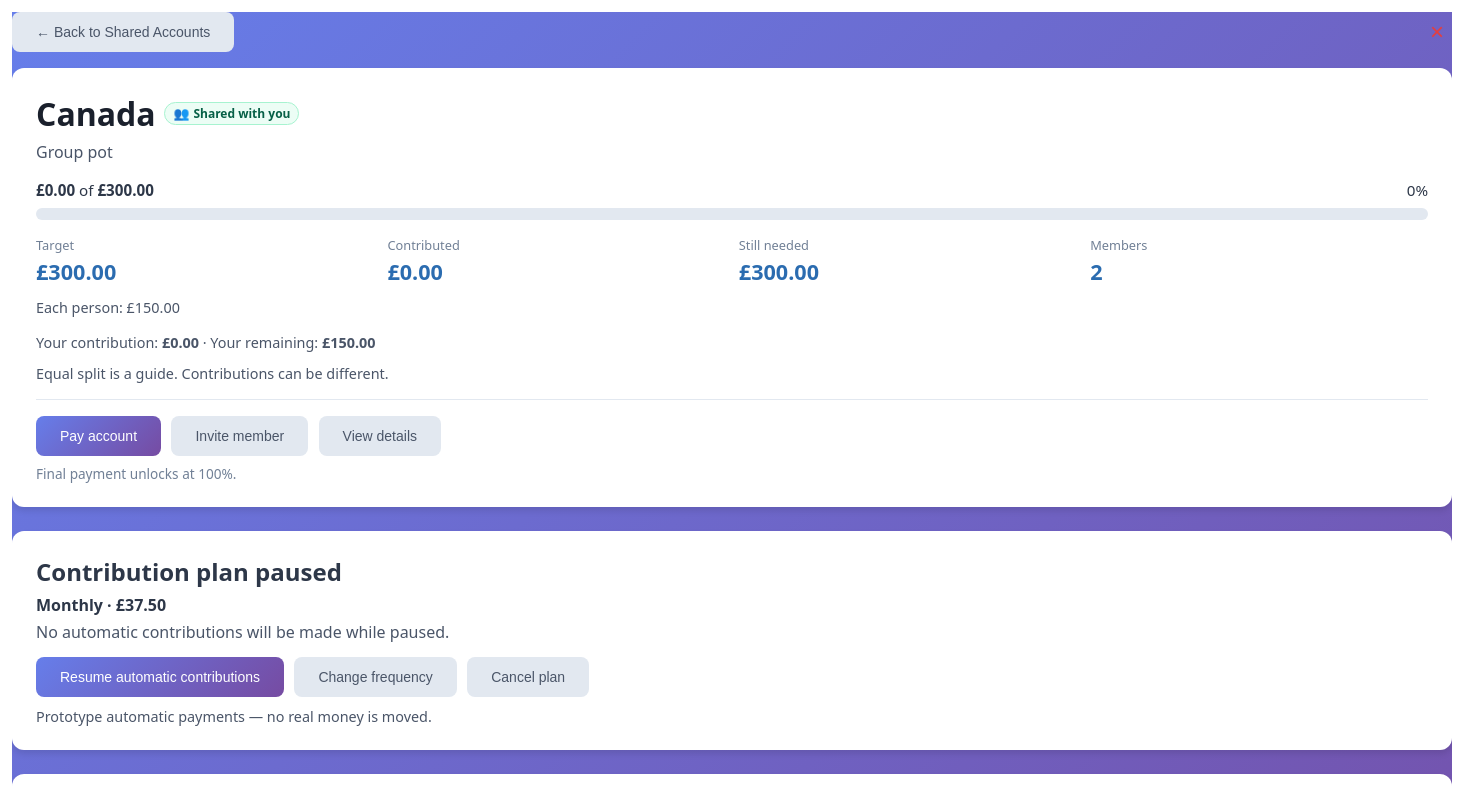
Test: SharedAccountDetail contribution plan management › resumes a paused plan back to active
The width and height of the screenshot is (1464, 799).
Click the button "Resume automatic contributions" at point(160, 677), box [36,657,284,697]
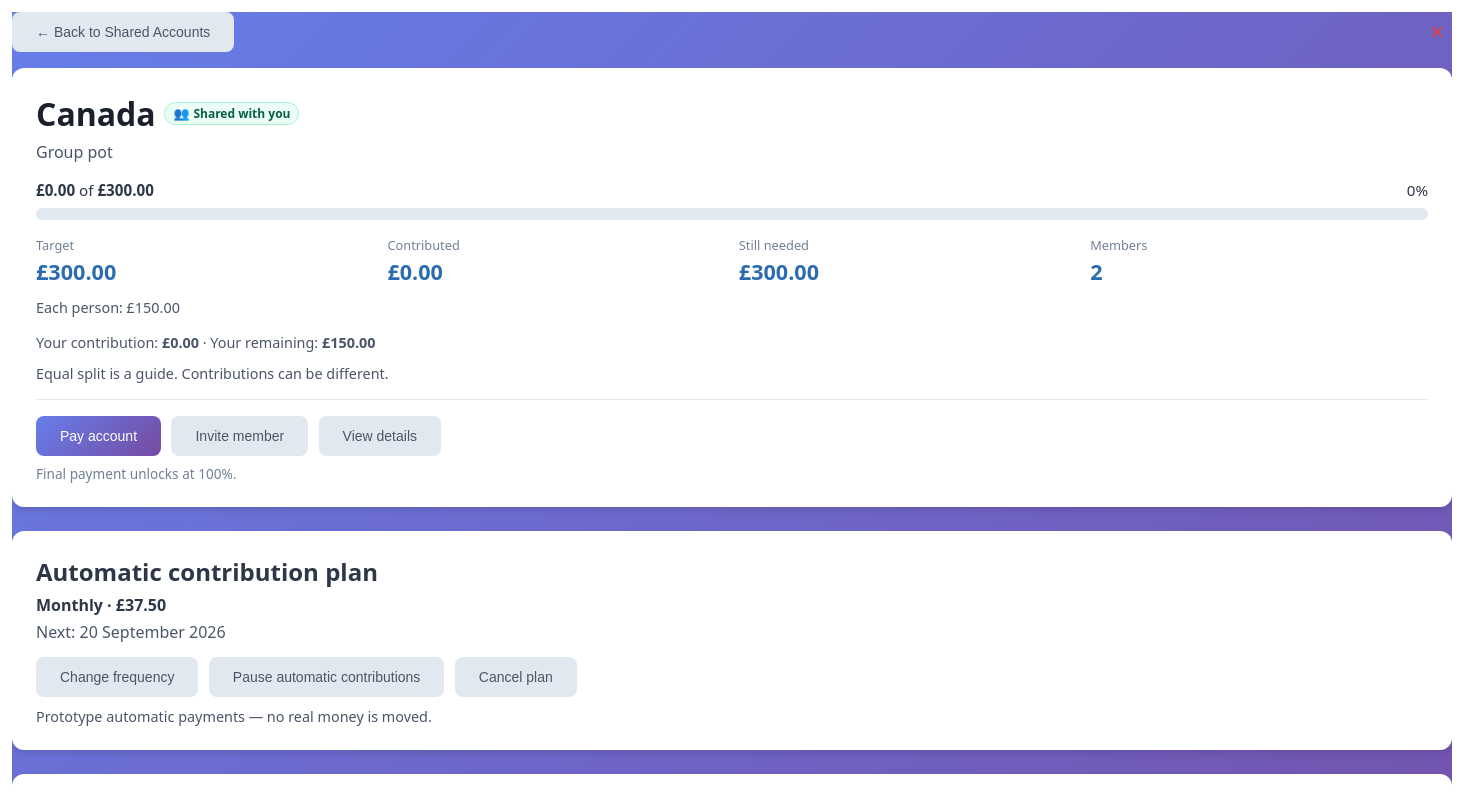
Now the heading "Automatic contribution plan" is shown, box [36,555,378,588]
Now the text "Next: 20 September 2026" is shown, box [36,621,226,643]
